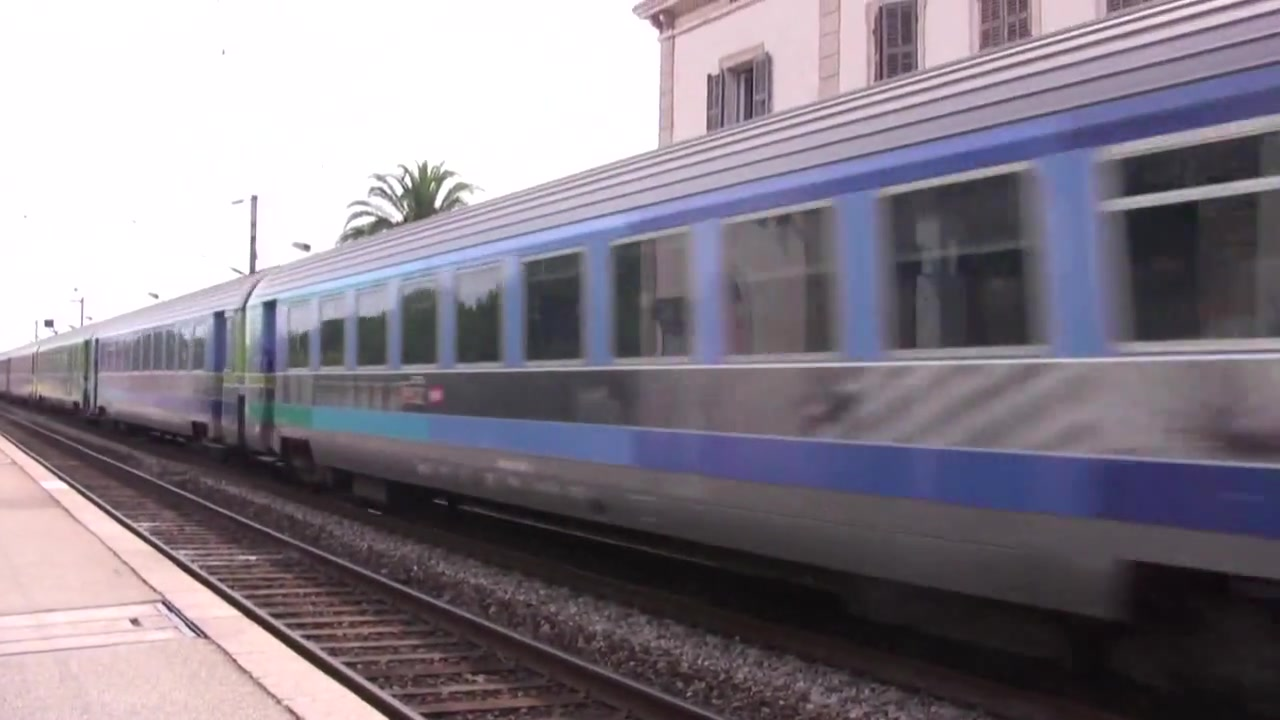train: (1, 1, 1280, 677)
